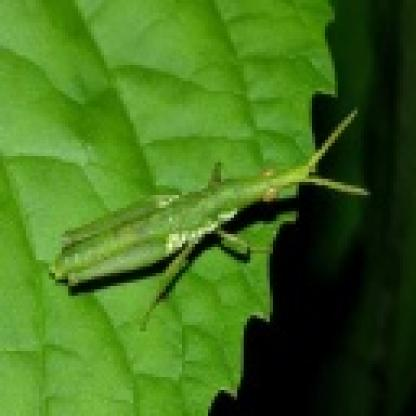grasshopper: (46, 112, 380, 306)
